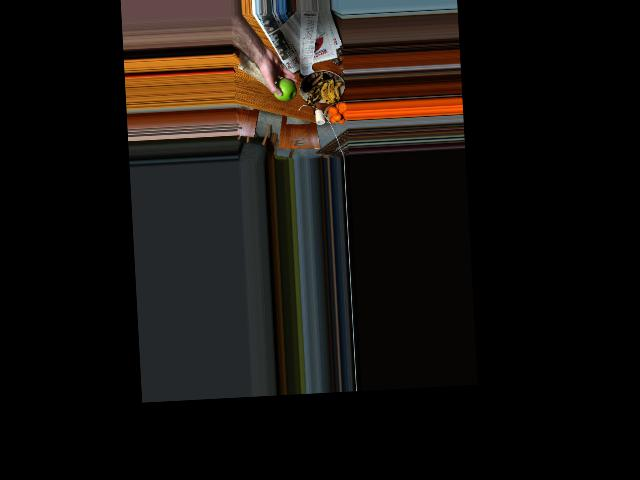apple: (271, 74, 297, 103)
